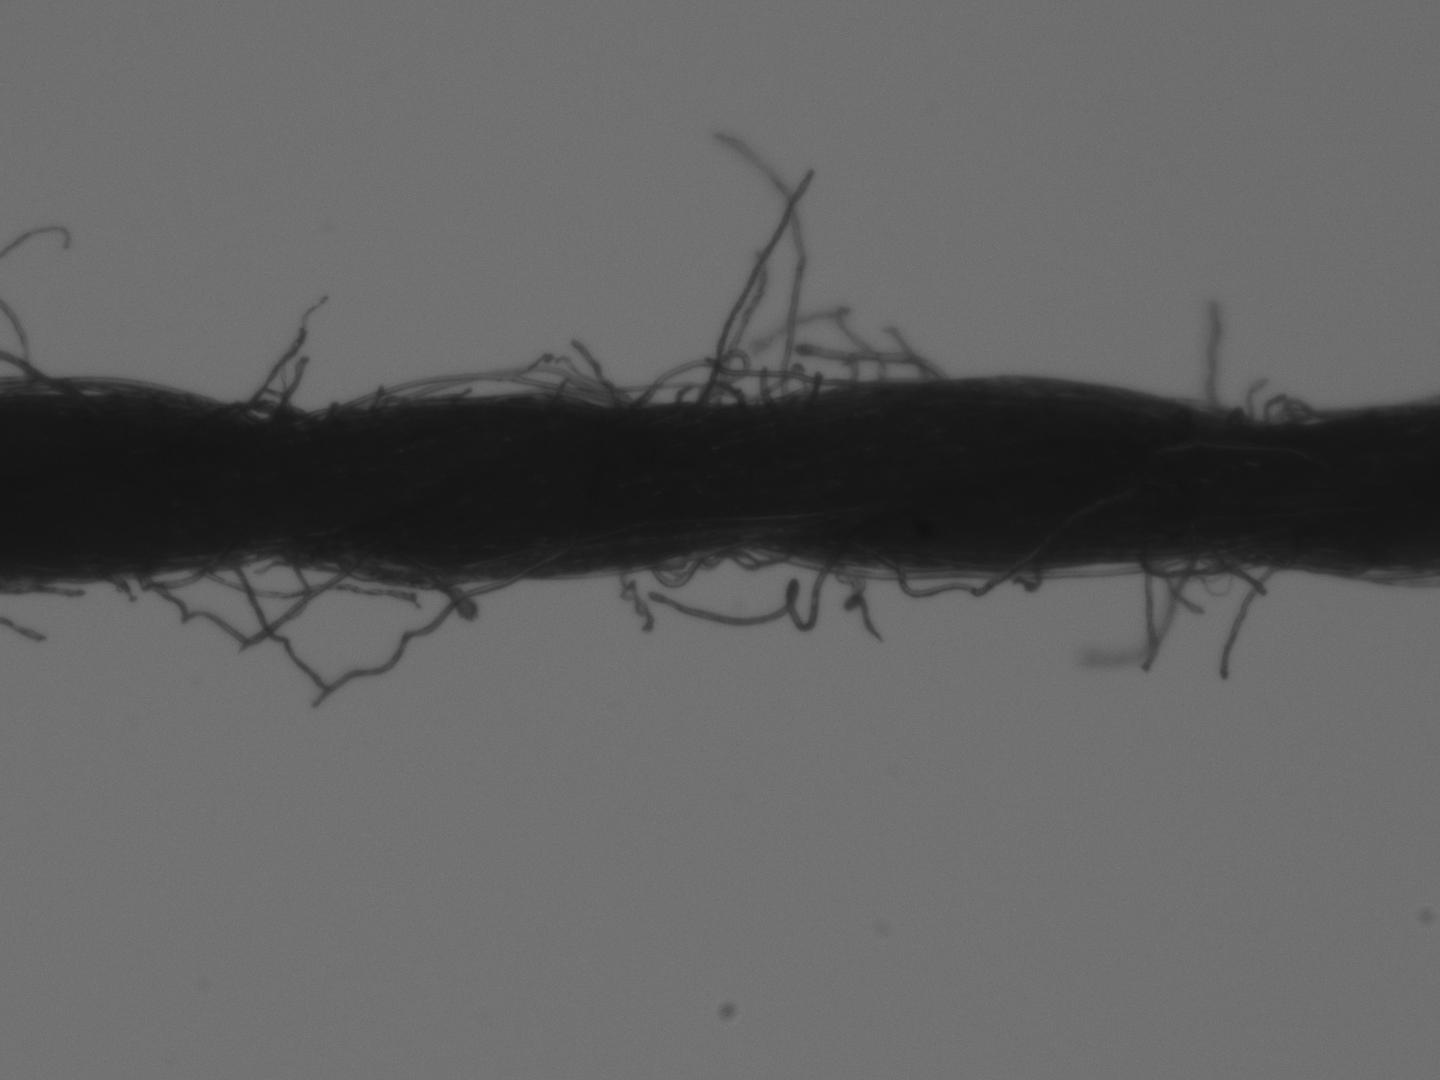loop_fiber: (133, 551, 313, 652), (338, 372, 596, 410), (197, 552, 351, 601), (649, 543, 791, 591), (1129, 547, 1253, 577), (132, 556, 217, 591), (678, 378, 748, 413), (1262, 395, 1333, 428)
protruding_fiber: (686, 166, 819, 413), (1217, 562, 1291, 680)
